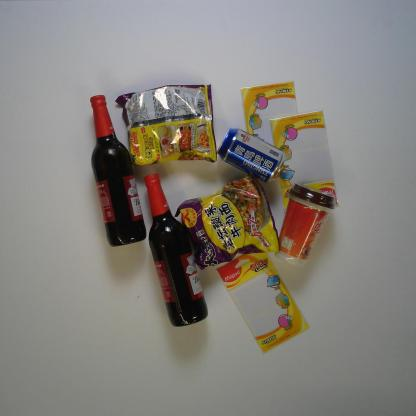Alcohol: (144, 171, 209, 328), (88, 93, 148, 248), (216, 127, 286, 183)
Instant Drink: (278, 182, 337, 268)
Instant Noodles: (174, 171, 281, 271), (114, 84, 218, 166)
Stationery: (217, 251, 309, 353), (270, 110, 340, 211), (240, 81, 299, 147)
